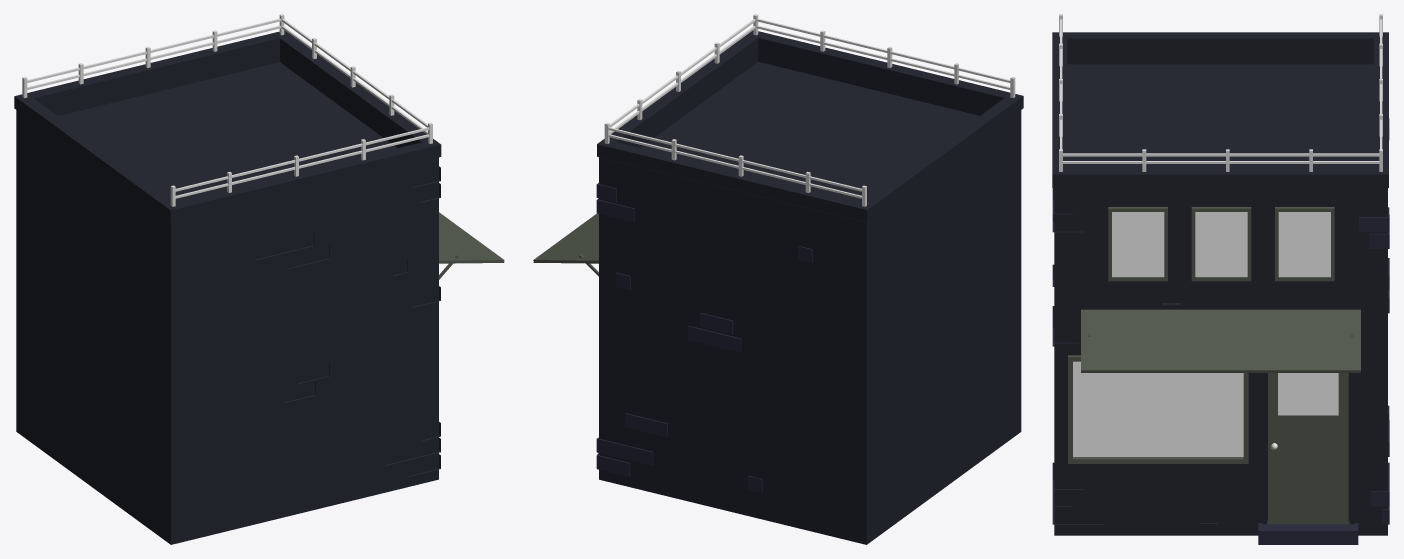
Rendered from kiosk.fbx.
3 renders of one model, left to right at view 1: azimuth 30°, elevation 25°; view 2: azimuth 150°, elevation 25°; view 3: azimuth 270°, elevation 25°, orthographic. The views are drawn at different scales.
Visible parts, largest first — view 1: Cube, Cube.021, Cube.003, Cube.044; view 2: Cube, Cube.021, Cube.044, Cube.003; view 3: Cube, Cube.003, Cube.121, marketDoor, Cube.004, Cube.005, Cube.006, Cube.021, Cube.044, Cube.001.
Part boxes in pixels (x1,y1,x2,y2): Cube: (14, 30, 441, 544); Cube.021: (22, 14, 432, 206); Cube.003: (439, 212, 504, 263); Cube.044: (256, 166, 440, 476); Cube: (597, 30, 1023, 544); Cube.021: (604, 14, 1015, 206); Cube.044: (596, 183, 812, 492); Cube.003: (533, 213, 598, 263); Cube: (1052, 32, 1388, 535); Cube.003: (1081, 309, 1360, 372); Cube.121: (1068, 355, 1248, 463); marketDoor: (1268, 373, 1348, 524); Cube.004: (1191, 207, 1251, 281); Cube.005: (1108, 207, 1167, 281); Cube.006: (1275, 207, 1334, 281); Cube.021: (1059, 14, 1382, 171); Cube.044: (1052, 118, 1389, 524); Cube.001: (1258, 520, 1358, 544).
Bounding box in the file's own units: 259 × 254 × 202.
